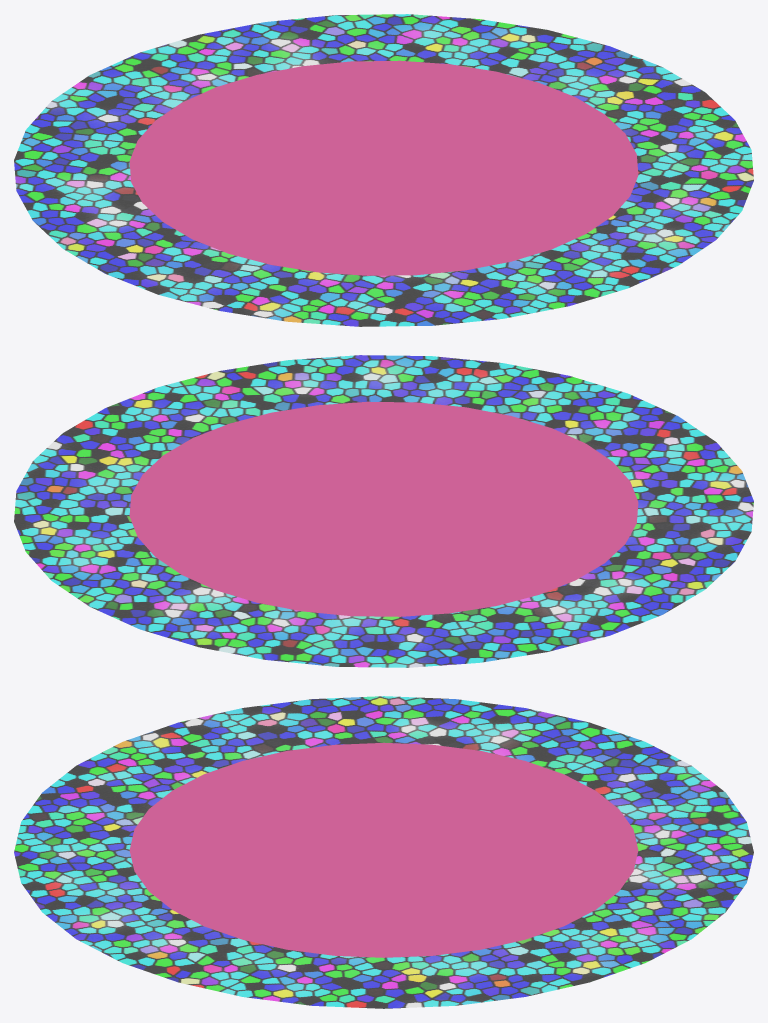
The model's file is portal.fbx.
3 renders of one model, top to bottom at view 1: azimuth 30°, elevation 25°; view 2: azimuth 150°, elevation 25°; view 3: azimuth 270°, elevation 25°, orthographic.
Visible parts, largest first — view 1: outer circle, inner circle; view 2: outer circle, inner circle; view 3: outer circle, inner circle.
Part boxes in pixels (x1,y1,x2,y2): outer circle: (14,14,753,326); inner circle: (129,60,638,275); outer circle: (14,355,753,667); inner circle: (129,401,638,616); outer circle: (14,696,753,1008); inner circle: (129,742,638,957).
Bounding box in the file's own units: 151 × 0.4869 × 151.
Materials: 2 (1 with a texture image).
